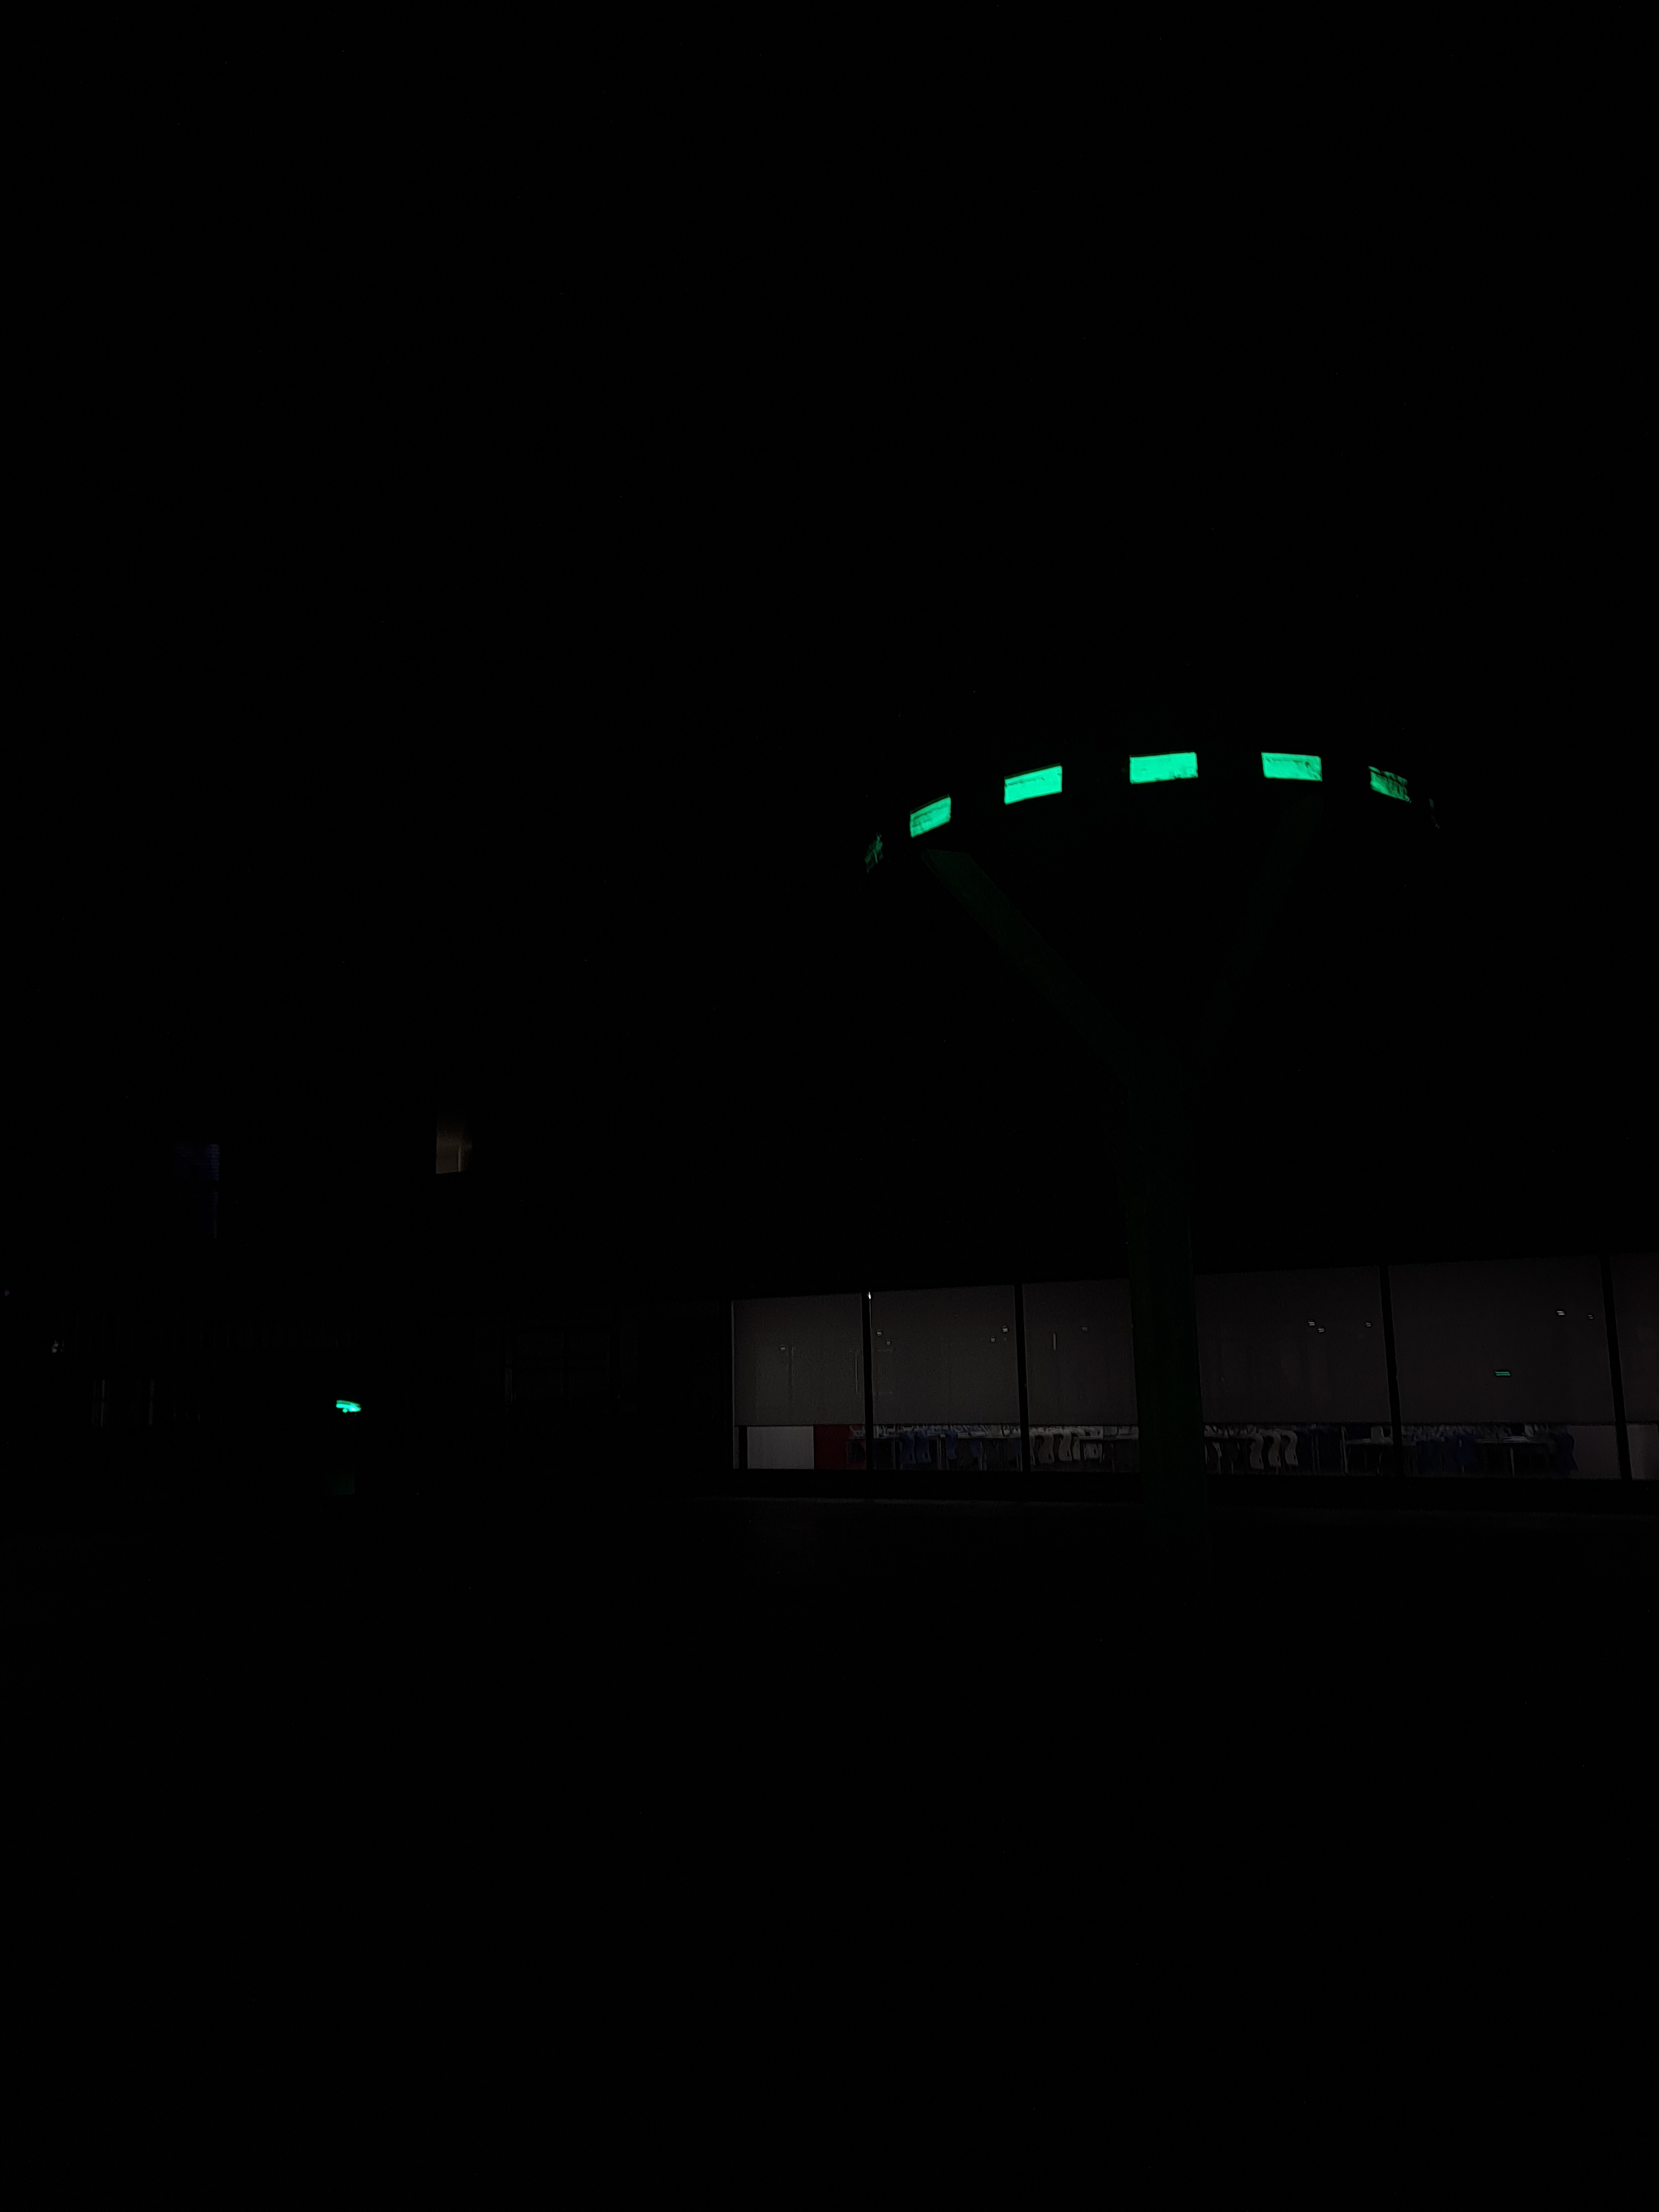hoop: (906, 744, 1417, 840)
